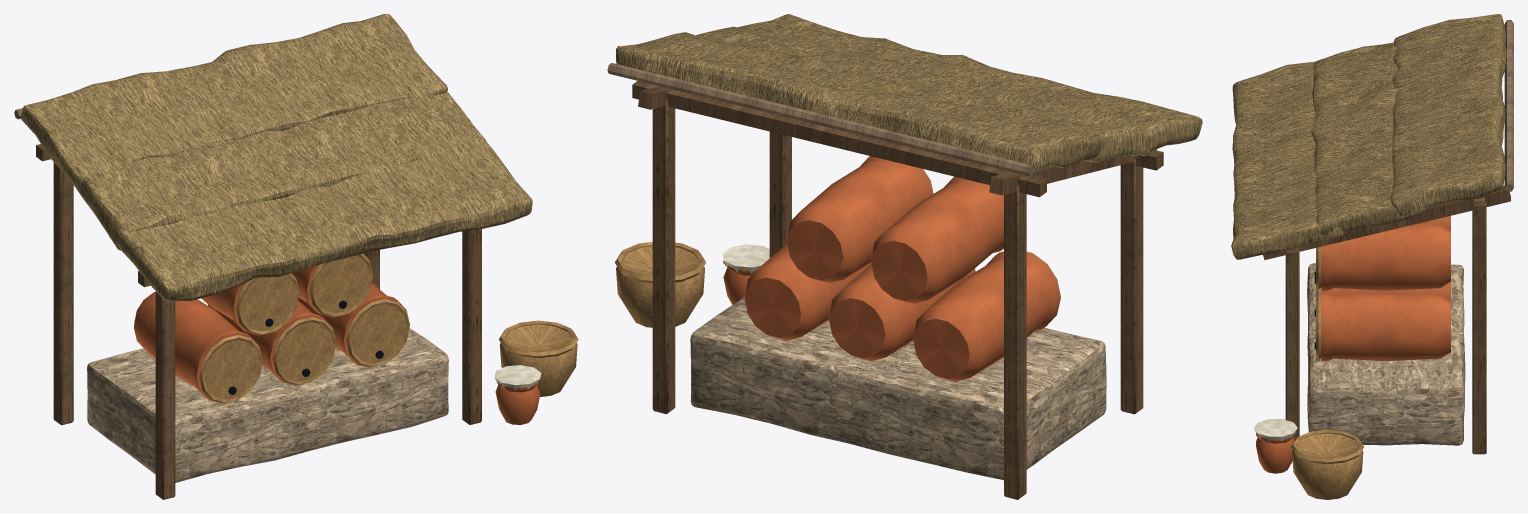
Rendered from country_beehives.glb.
3 views of the same model, side by side, from view 1: azimuth 30°, elevation 25°; view 2: azimuth 150°, elevation 25°; view 3: azimuth 270°, elevation 25° (orthographic). The views are drawn at different scales.
Visible parts, largest first — view 1: thatch.003, drystone, wicker, wood_dark, terracotta, cloth_cream.001; view 2: terracotta, thatch.003, drystone, wood_dark, wood, wicker, cloth_cream.001; view 3: thatch.003, terracotta, drystone, wood_dark, wicker, wood, cloth_cream.001.
Boxes of the visible parts, left/top/right/bottom form: thatch.003: left=21, top=14, right=532, bottom=301; drystone: left=87, top=328, right=448, bottom=482; wicker: left=199, top=254, right=578, bottom=403; wood_dark: left=36, top=144, right=481, bottom=499; terracotta: left=134, top=253, right=540, bottom=424; cloth_cream.001: left=494, top=365, right=541, bottom=390; terracotta: left=723, top=156, right=1060, bottom=381; thatch.003: left=616, top=14, right=1202, bottom=170; drystone: left=690, top=296, right=1106, bottom=480; wood_dark: left=632, top=81, right=1163, bottom=499; wood: left=607, top=63, right=1034, bottom=176; wicker: left=615, top=168, right=1060, bottom=327; cloth_cream.001: left=722, top=244, right=769, bottom=273; thatch.003: left=1231, top=14, right=1506, bottom=259; terracotta: left=1256, top=216, right=1450, bottom=473; drystone: left=1307, top=263, right=1465, bottom=445; wood_dark: left=1263, top=186, right=1510, bottom=454; wicker: left=1291, top=247, right=1363, bottom=499; wood: left=1504, top=20, right=1513, bottom=191; cloth_cream.001: left=1254, top=419, right=1297, bottom=441.
Size of the model in its own units: 3.76 by 2.51 by 2.18.
8 materials, 7 textured.
